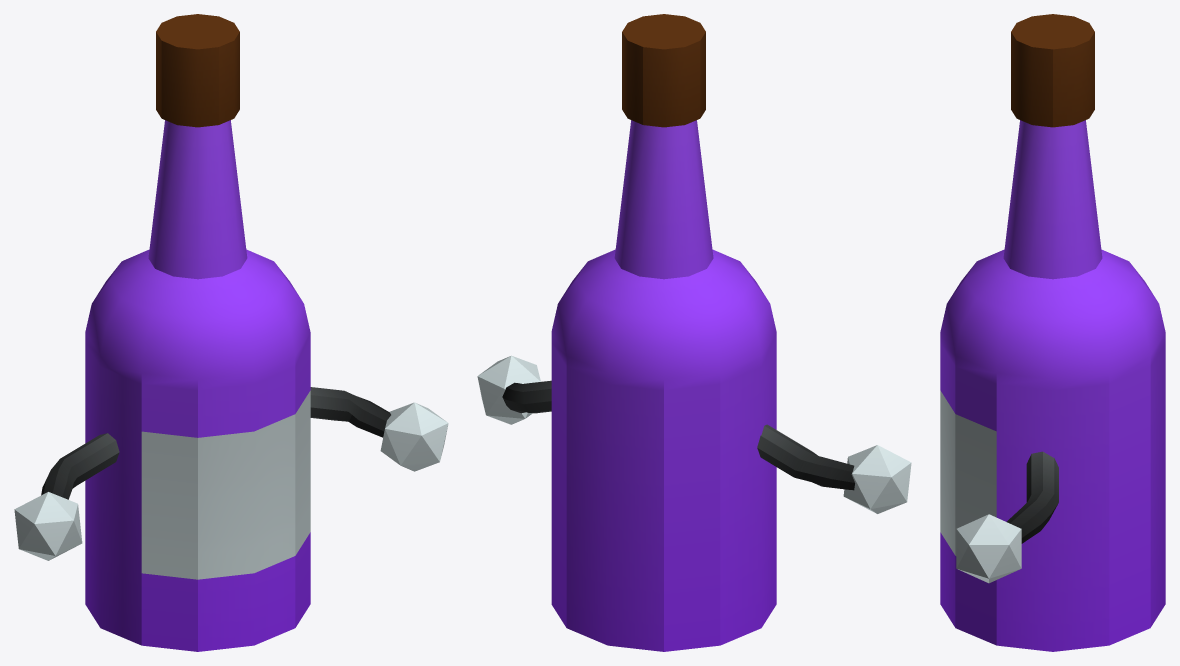
File: botella.fbx
3 renders of one model, left to right at view 1: azimuth 30°, elevation 25°; view 2: azimuth 150°, elevation 25°; view 3: azimuth 270°, elevation 25°, orthographic.
Visible parts, largest first — view 1: botella; view 2: botella; view 3: botella.
Boxes of the visible parts, x1,y1,x2,y2 form: botella: (14, 14, 448, 651); botella: (477, 14, 911, 651); botella: (940, 14, 1165, 651).
Bounding box in the file's own units: 55.43 × 71.31 × 25.41.
